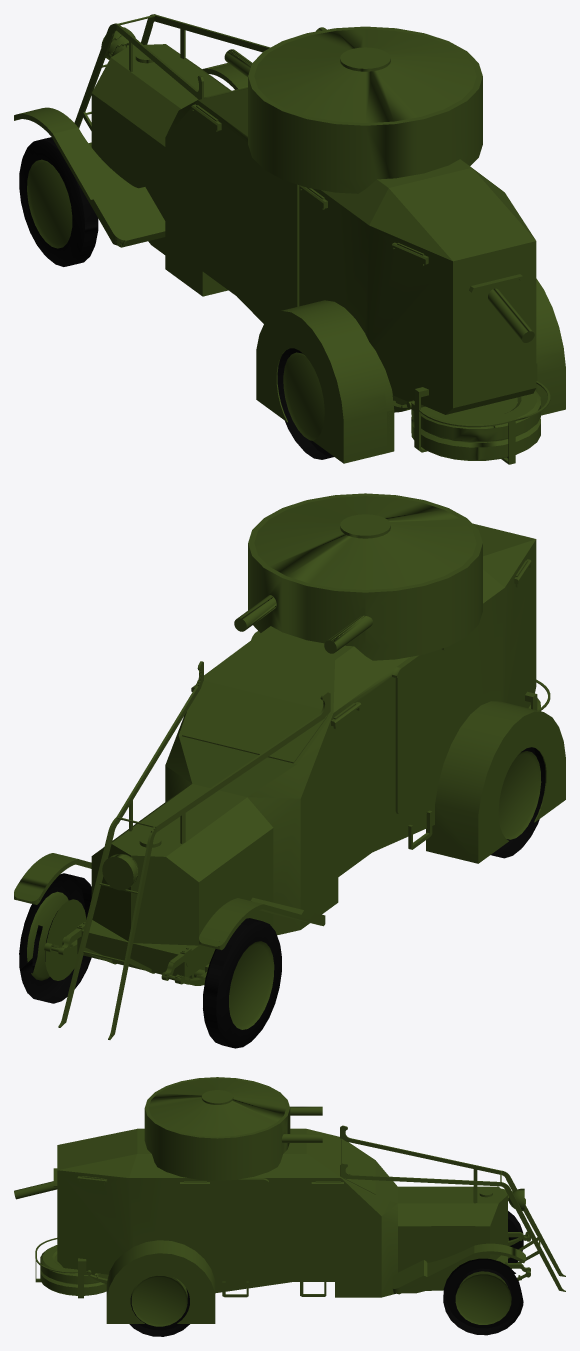
The model's file is lancia.fbx.
3 renders of one model, top to bottom at view 1: azimuth 30°, elevation 25°; view 2: azimuth 150°, elevation 25°; view 3: azimuth 270°, elevation 25°, orthographic. The views are drawn at different scales.
Visible parts, largest first — view 1: main, Material3.028, Material3.025; view 2: main, Material3.028, Material3.025; view 3: main, Material3.025, Material3.028.
Part boxes in pixels (x1,y1,x2,y2): main: [14, 14, 550, 464]; Material3.028: [281, 278, 565, 463]; Material3.025: [256, 311, 343, 463]; main: [14, 493, 550, 1048]; Material3.028: [426, 701, 542, 863]; Material3.025: [478, 711, 565, 863]; main: [14, 1077, 565, 1336]; Material3.025: [106, 1253, 215, 1323]; Material3.028: [106, 1240, 215, 1297].
Bounding box in the file's own units: 836 × 1213 × 2905.
